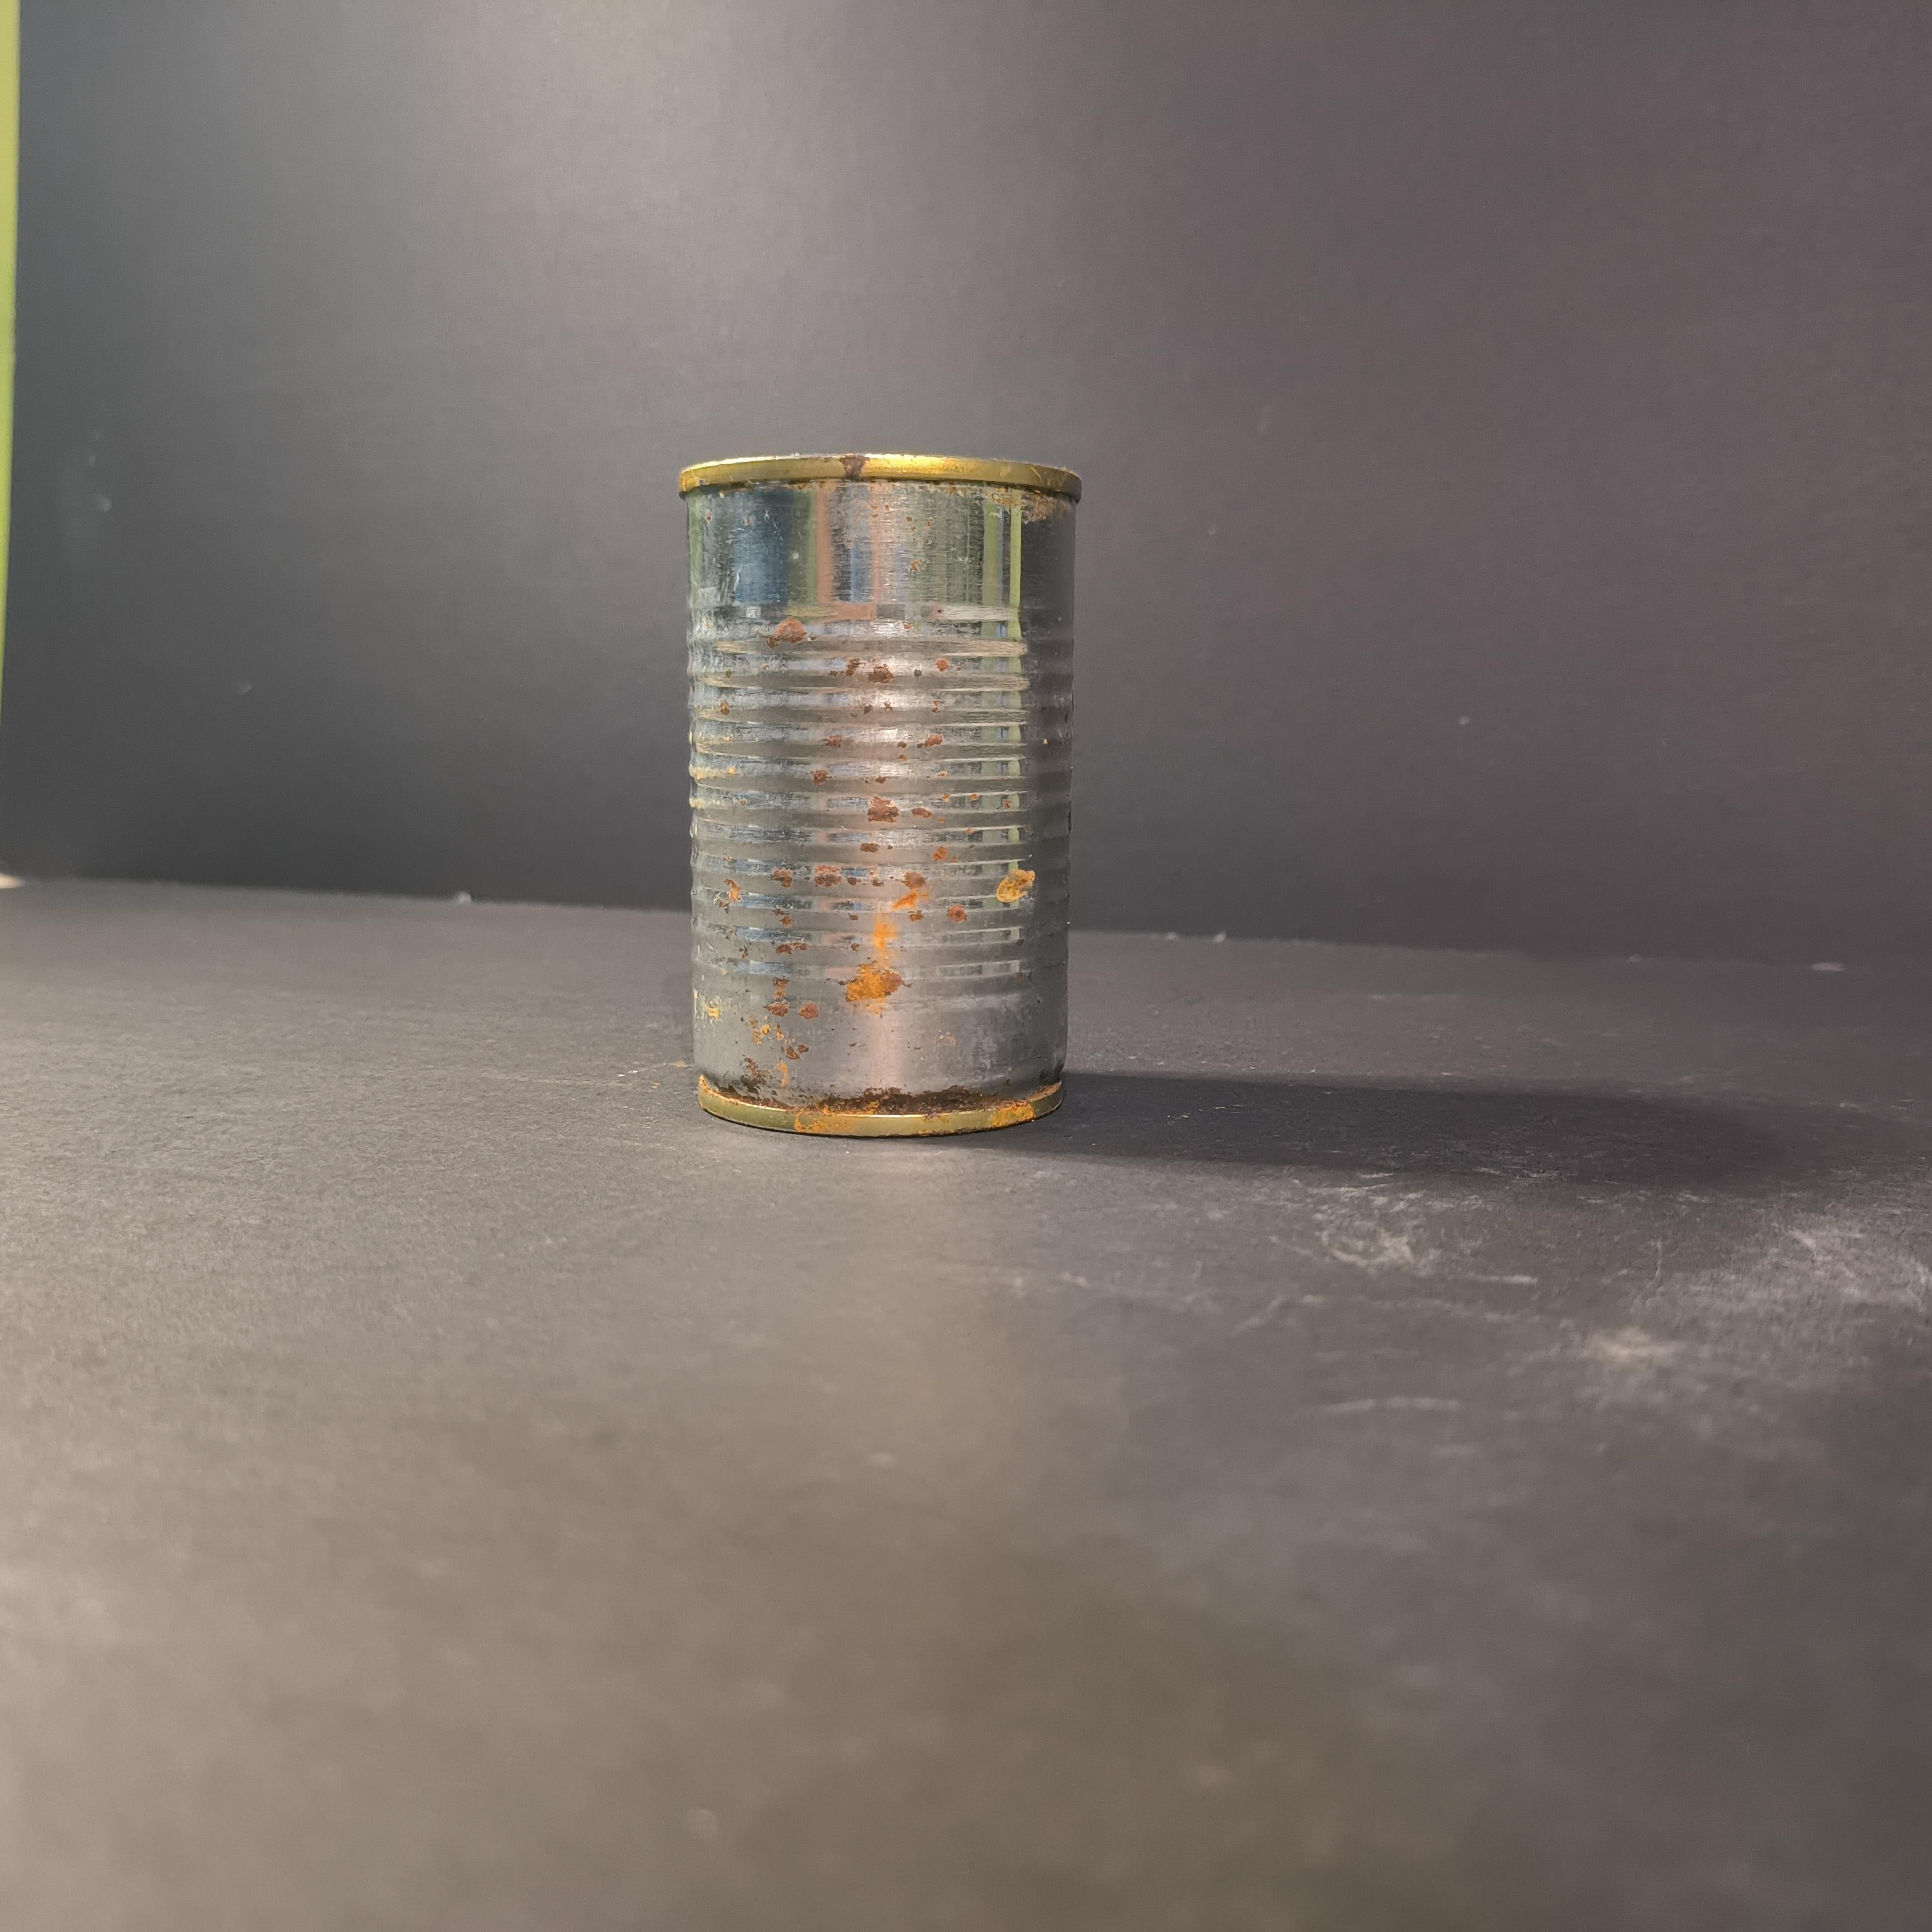Rusted: (665, 439, 1097, 1166)
